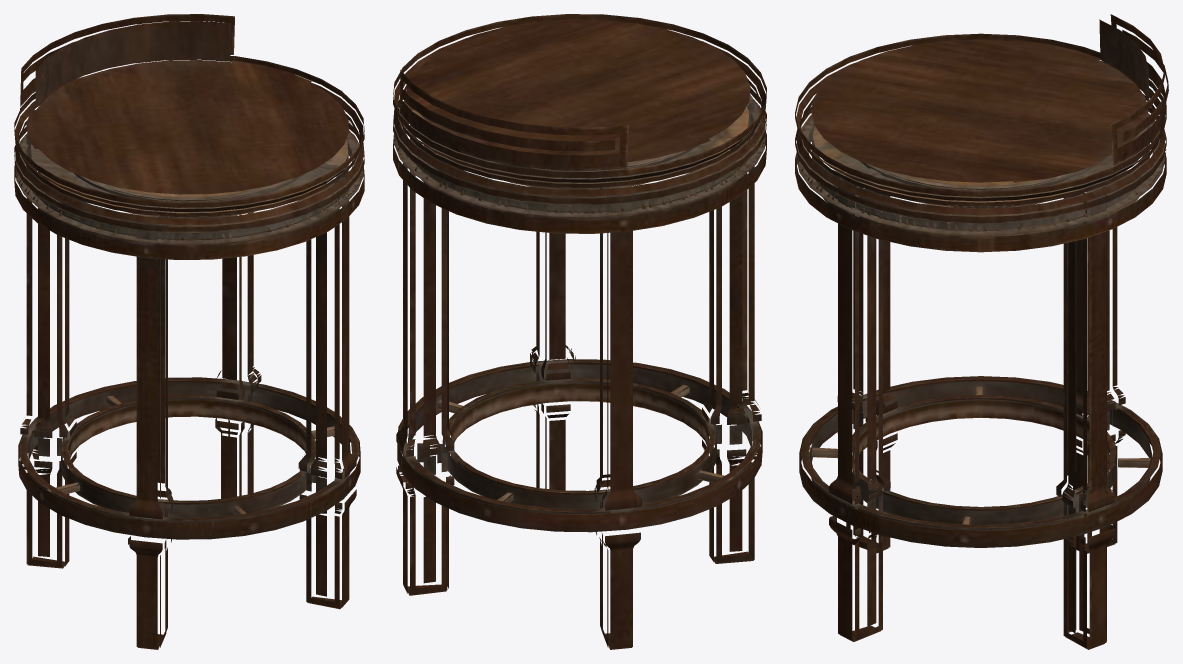
Rendered from isl_barstool.glb.
3 renders of one model, left to right at view 1: azimuth 30°, elevation 25°; view 2: azimuth 150°, elevation 25°; view 3: azimuth 270°, elevation 25°, orthographic. The views are drawn at different scales.
Parts seen in each view (by area): view 1: bar_chair_round_01; view 2: bar_chair_round_01; view 3: bar_chair_round_01.
Boxes of the visible parts, x1=… form: bar_chair_round_01: x1=14, y1=14, x2=364, y2=649; bar_chair_round_01: x1=393, y1=14, x2=766, y2=649; bar_chair_round_01: x1=795, y1=14, x2=1168, y2=649.
Size of the model in its own units: 0.4832 by 0.7493 by 0.486.
1 material, 1 textured.
